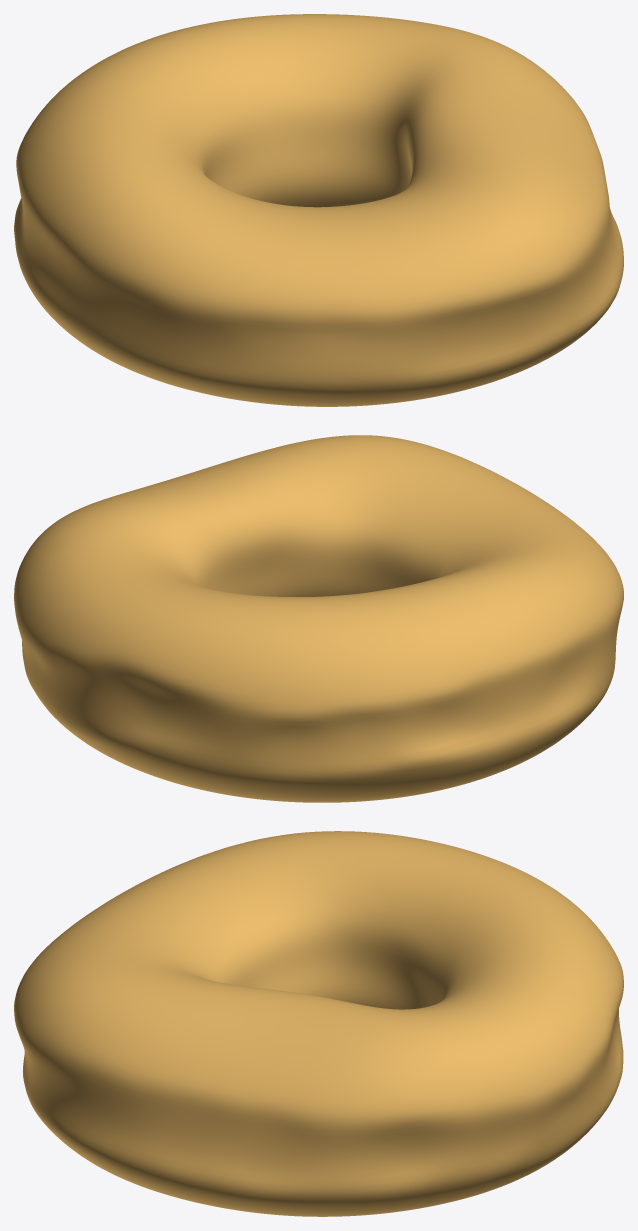
The model's file is Donut.fbx.
3 renders of one model, top to bottom at view 1: azimuth 30°, elevation 25°; view 2: azimuth 150°, elevation 25°; view 3: azimuth 270°, elevation 25°, orthographic. The views are drawn at different scales.
Parts seen in each view (by area): view 1: Donut; view 2: Donut; view 3: Donut.
Boxes of the visible parts, x1,y1,x2,y2 form: Donut: [14, 14, 623, 406]; Donut: [14, 435, 623, 802]; Donut: [14, 831, 623, 1216].
Bounding box in the file's own units: 26.23 × 9.25 × 26.57.
